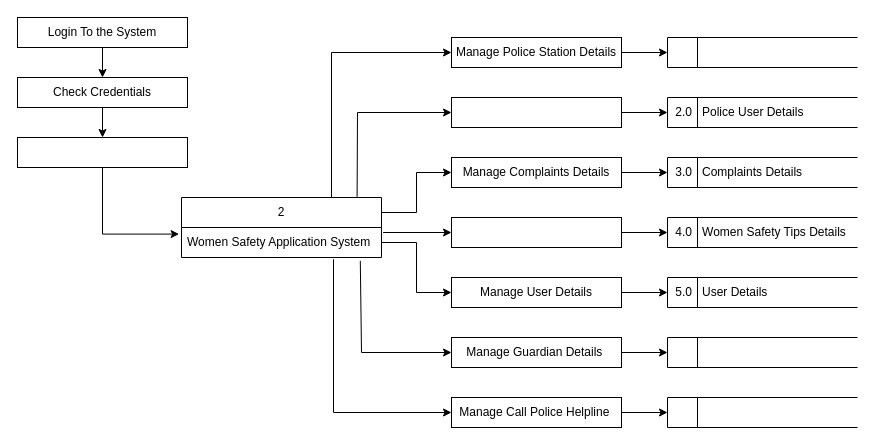
Some shapes in this 875 by 445 pixel diagram are drawn without their labels. The centre of each missing label's shape, as x and y in pixels:
"1.0 Police Station Details" goes at point 762,52.
"6.0 Guardian Details" goes at point 762,352.
"7.0 Call Police Details" goes at point 762,412.
"Manage Modules" goes at point 102,152.
"Manage Police User Details" goes at point 536,112.
"Manage Women Safety Tips Details" goes at point 536,232.
